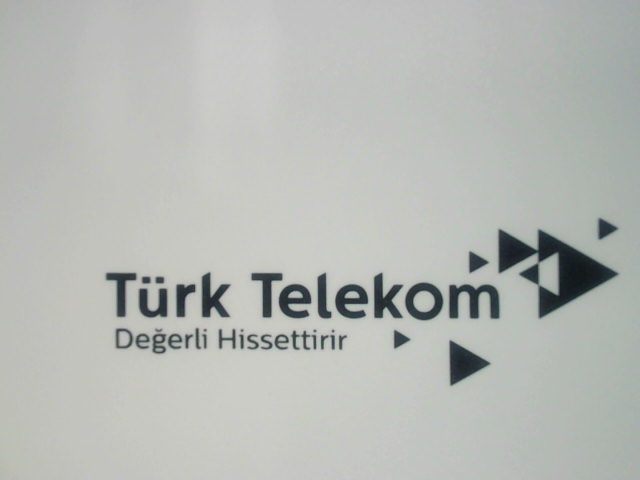AQ_TURKTelekom: (100, 215, 623, 394)
